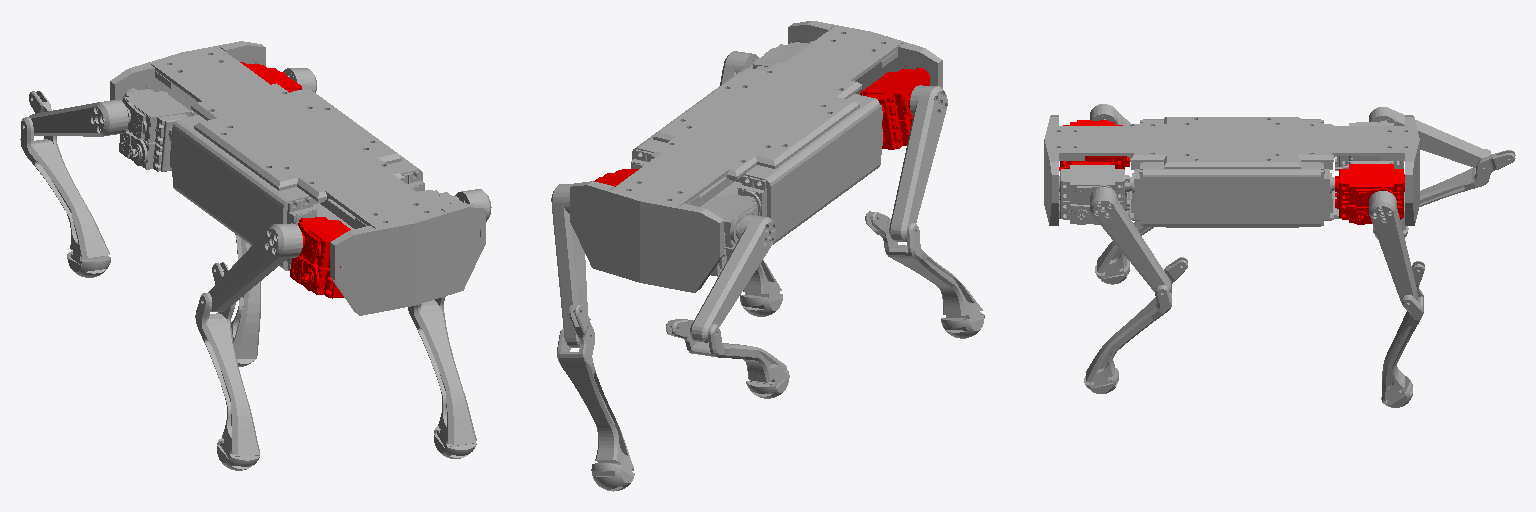
The robot description file, URDF, robot "URDF_1":
<?xml version="1.0" encoding="utf-8"?>
<!-- This URDF was automatically created by SolidWorks to URDF Exporter! Originally created by Stephen Brawner (brawner@gmail.com) 
     Commit Version: 1.6.0-4-g7f85cfe  Build Version: 1.6.7995.38578
     For more information, please see http://wiki.ros.org/sw_urdf_exporter -->
<robot
  name="URDF_1">
  <link
    name="base_link">
    <inertial>
      <origin
        xyz="-8.89733209330501E-09 5.80279366224623E-09 0.000469638111616488"
        rpy="0 0 0" />
      <mass
        value="0.326547450453838" />
      <inertia
        ixx="0.000391289337593216"
        ixy="3.11507093855639E-12"
        ixz="3.2458604082514E-14"
        iyy="0.000178962951565766"
        iyz="-2.56961793499477E-11"
        izz="0.000422717057682732" />
    </inertial>
    <visual>
      <origin
        xyz="0 0 0"
        rpy="0 0 0" />
      <geometry>
        <mesh
          filename="package://URDF_1/meshes/base_link.STL" />
      </geometry>
      <material
        name="">
        <color
          rgba="0.698039215686274 0.698039215686274 0.698039215686274 1" />
      </material>
    </visual>
    <collision>
      <origin
        xyz="0 0 0"
        rpy="0 0 0" />
      <geometry>
        <mesh
          filename="package://URDF_1/meshes/base_link.STL" />
      </geometry>
    </collision>
  </link>
  <link
    name="hip_RF">
    <inertial>
      <origin
        xyz="0.0101758409718946 -0.00295324280623038 0.0298079534648806"
        rpy="0 0 0" />
      <mass
        value="0.0691270950351537" />
      <inertia
        ixx="1.60045029240141E-05"
        ixy="-8.41630917562136E-07"
        ixz="4.17715702410563E-08"
        iyy="1.16544762200248E-05"
        iyz="-7.79296720298759E-09"
        izz="1.03221381222432E-05" />
    </inertial>
    <visual>
      <origin
        xyz="0 0 0"
        rpy="0 0 0" />
      <geometry>
        <mesh
          filename="package://URDF_1/meshes/hip_RF.STL" />
      </geometry>
      <material
        name="">
        <color
          rgba="1 0 0 1" />
      </material>
    </visual>
    <collision>
      <origin
        xyz="0 0 0"
        rpy="0 0 0" />
      <geometry>
        <mesh
          filename="package://URDF_1/meshes/hip_RF.STL" />
      </geometry>
    </collision>
  </link>
  <joint
    name="Joint1_RF"
    type="revolute">
    <origin
      xyz="-0.0449999975183673 -0.0954992296169646 0.00938098015422839"
      rpy="1.5707963267949 1.5707963267949 0" />
    <parent
      link="base_link" />
    <child
      link="hip_RF" />
    <axis
      xyz="0 0 -1" />
    <limit
      lower="-1.57"
      upper="1.57"
      effort="1.5"
      velocity="6" />
  </joint>
  <link
    name="Thigh_RF">
    <inertial>
      <origin
        xyz="0.0293301594342765 -0.0272442713335294 0.0104420530076204"
        rpy="0 0 0" />
      <mass
        value="0.0136519261065869" />
      <inertia
        ixx="7.07459649682712E-06"
        ixy="6.84196217020393E-06"
        ixz="-1.62800429715419E-07"
        iyy="8.06583954976181E-06"
        iyz="1.51433948647116E-07"
        izz="1.46391765368904E-05" />
    </inertial>
    <visual>
      <origin
        xyz="0 0 0"
        rpy="0 0 0" />
      <geometry>
        <mesh
          filename="package://URDF_1/meshes/Thigh_RF.STL" />
      </geometry>
      <material
        name="">
        <color
          rgba="0.698039215686274 0.698039215686274 0.698039215686274 1" />
      </material>
    </visual>
    <collision>
      <origin
        xyz="0 0 0"
        rpy="0 0 0" />
      <geometry>
        <mesh
          filename="package://URDF_1/meshes/Thigh_RF.STL" />
      </geometry>
    </collision>
  </link>
  <joint
    name="Joint2_RF"
    type="revolute">
    <origin
      xyz="-0.00450651591222284 -0.025092092493153 0.0198618938454757"
      rpy="1.5707963268116 0 -0.184218403881293" />
    <parent
      link="hip_RF" />
    <child
      link="Thigh_RF" />
    <axis
      xyz="0 0 -1" />
    <limit
      lower="-1.57"
      upper="1.57"
      effort="1.5"
      velocity="6" />
  </joint>
  <link
    name="Calf_RF">
    <inertial>
      <origin
        xyz="0.047130767944832 0.0312562104039913 0.00939524605364289"
        rpy="0 0 0" />
      <mass
        value="0.00886601726386029" />
      <inertia
        ixx="6.71306610984721E-06"
        ixy="-7.37313616292729E-06"
        ixz="-3.49041423020364E-07"
        iyy="9.42736783203624E-06"
        iyz="-2.62130389157074E-07"
        izz="1.54522802785908E-05" />
    </inertial>
    <visual>
      <origin
        xyz="0 0 0"
        rpy="0 0 0" />
      <geometry>
        <mesh
          filename="package://URDF_1/meshes/Calf_RF.STL" />
      </geometry>
      <material
        name="">
        <color
          rgba="0.698039215686274 0.698039215686274 0.698039215686274 1" />
      </material>
    </visual>
    <collision>
      <origin
        xyz="0 0 0"
        rpy="0 0 0" />
      <geometry>
        <mesh
          filename="package://URDF_1/meshes/Calf_RF.STL" />
      </geometry>
    </collision>
  </link>
  <joint
    name="Joint3_RF"
    type="revolute">
    <origin
      xyz="0.0732205350882606 -0.0680702904138538 0.00129999939815947"
      rpy="0 0 0" />
    <parent
      link="Thigh_RF" />
    <child
      link="Calf_RF" />
    <axis
      xyz="0 0 -1" />
    <limit
      lower="-1.57"
      upper="1.57"
      effort="1.5"
      velocity="6" />
  </joint>
  <link
    name="Foot_RF">
    <inertial>
      <origin
        xyz="-0.00583271386296175 -2.40392014627666E-09 0.000153322641961037"
        rpy="0 0 0" />
      <mass
        value="0.00230350113995821" />
      <inertia
        ixx="2.28786125178542E-07"
        ixy="8.23607527728537E-16"
        ixz="3.24629427146376E-11"
        iyy="1.2469664007038E-07"
        iyz="-8.68168615618258E-15"
        izz="1.62073483876861E-07" />
    </inertial>
    <visual>
      <origin
        xyz="0 0 0"
        rpy="0 0 0" />
      <geometry>
        <mesh
          filename="package://URDF_1/meshes/Foot_RF.STL" />
      </geometry>
      <material
        name="">
        <color
          rgba="0.698039215686274 0.698039215686274 0.698039215686274 1" />
      </material>
    </visual>
    <collision>
      <origin
        xyz="0 0 0"
        rpy="0 0 0" />
      <geometry>
        <mesh
          filename="package://URDF_1/meshes/Foot_RF.STL" />
      </geometry>
    </collision>
  </link>
  <joint
    name="Joint4_RF"
    type="fixed">
    <origin
      xyz="0.103568272218062 0.0578115123715837 0.00992243475665355"
      rpy="0 0 -0.193181008175667" />
    <parent
      link="Calf_RF" />
    <child
      link="Foot_RF" />
    <axis
      xyz="0 0 0" />
  </joint>
  <link
    name="Hip_LB">
    <inertial>
      <origin
        xyz="0.0105443186238565 -0.00105472348652783 0.0298079519245261"
        rpy="0 0 0" />
      <mass
        value="0.0691271600080189" />
      <inertia
        ixx="1.61616624786488E-05"
        ixy="-1.80350617679244E-09"
        ixz="4.24921726067964E-08"
        iyy="1.14973269950902E-05"
        iyz="-9.47563062784748E-12"
        izz="1.03221485699731E-05" />
    </inertial>
    <visual>
      <origin
        xyz="0 0 0"
        rpy="0 0 0" />
      <geometry>
        <mesh
          filename="package://URDF_1/meshes/Hip_LB.STL" />
      </geometry>
      <material
        name="">
        <color
          rgba="1 0 0 1" />
      </material>
    </visual>
    <collision>
      <origin
        xyz="0 0 0"
        rpy="0 0 0" />
      <geometry>
        <mesh
          filename="package://URDF_1/meshes/Hip_LB.STL" />
      </geometry>
    </collision>
  </link>
  <joint
    name="Joint1_LB"
    type="revolute">
    <origin
      xyz="0.0449999975824225 0.0954992295412814 0.00938097942002192"
      rpy="1.57079632495153 1.34679897174749 3.14159265169919" />
    <parent
      link="base_link" />
    <child
      link="Hip_LB" />
    <axis
      xyz="0 0 -1" />
    <limit
      lower="-1.57"
      upper="1.57"
      effort="1.5"
      velocity="6" />
  </joint>
  <link
    name="Thigh_LB">
    <inertial>
      <origin
        xyz="0.0389608196571295 0.00926999545325023 0.0104420543671168"
        rpy="0 0 0" />
      <mass
        value="0.0136519259715228" />
      <inertia
        ixx="1.45113756843158E-06"
        ixy="-3.10079693063737E-06"
        ixz="-2.1625638659868E-07"
        iyy="1.36892984020968E-05"
        iyz="-5.1665709849204E-08"
        izz="1.46391764988465E-05" />
    </inertial>
    <visual>
      <origin
        xyz="0 0 0"
        rpy="0 0 0" />
      <geometry>
        <mesh
          filename="package://URDF_1/meshes/Thigh_LB.STL" />
      </geometry>
      <material
        name="">
        <color
          rgba="0.698039215686274 0.698039215686274 0.698039215686274 1" />
      </material>
    </visual>
    <collision>
      <origin
        xyz="0 0 0"
        rpy="0 0 0" />
      <geometry>
        <mesh
          filename="package://URDF_1/meshes/Thigh_LB.STL" />
      </geometry>
    </collision>
  </link>
  <joint
    name="Joint2_LB"
    type="revolute">
    <origin
      xyz="0.000165754722025624 -0.0255084660262564 0.039938106153917"
      rpy="1.5707963267949 0 0" />
    <parent
      link="Hip_LB" />
    <child
      link="Thigh_LB" />
    <axis
      xyz="0 0 -1" />
    <limit
      lower="-1.57"
      upper="1.57"
      effort="1.5"
      velocity="6" />
  </joint>
  <link
    name="Calf_LB">
    <inertial>
      <origin
        xyz="0.0562208281794497 -0.00612334120609302 0.00939526919960348"
        rpy="0 0 0" />
      <mass
        value="0.00886598317933579" />
      <inertia
        ixx="1.27005551146409E-06"
        ixy="3.15639128636823E-06"
        ixz="-4.30423969535076E-07"
        iyy="1.48703265621312E-05"
        iyz="7.25767881715299E-08"
        izz="1.54522330502024E-05" />
    </inertial>
    <visual>
      <origin
        xyz="0 0 0"
        rpy="0 0 0" />
      <geometry>
        <mesh
          filename="package://URDF_1/meshes/Calf_LB.STL" />
      </geometry>
      <material
        name="">
        <color
          rgba="0.698039215686274 0.698039215686274 0.698039215686274 1" />
      </material>
    </visual>
    <collision>
      <origin
        xyz="0 0 0"
        rpy="0 0 0" />
      <geometry>
        <mesh
          filename="package://URDF_1/meshes/Calf_LB.STL" />
      </geometry>
    </collision>
  </link>
  <joint
    name="Joint3_LB"
    type="revolute">
    <origin
      xyz="0.0972627533996326 0.0231988662333634 0.00129999934280145"
      rpy="0 0 0" />
    <parent
      link="Thigh_LB" />
    <child
      link="Calf_LB" />
    <axis
      xyz="0 0 -1" />
    <limit
      lower="-1.57"
      upper="1.57"
      effort="1.5"
      velocity="6" />
  </joint>
  <link
    name="Foot_LB">
    <inertial>
      <origin
        xyz="-0.00583271254232623 -1.28429211709857E-11 -0.000153322627192587"
        rpy="0 0 0" />
      <mass
        value="0.0023035011249116" />
      <inertia
        ixx="2.28786123341901E-07"
        ixy="-1.08414761372025E-16"
        ixz="-3.2462602967542E-11"
        iyy="1.24696638198611E-07"
        iyz="-8.6922778333494E-15"
        izz="1.62073483431227E-07" />
    </inertial>
    <visual>
      <origin
        xyz="0 0 0"
        rpy="0 0 0" />
      <geometry>
        <mesh
          filename="package://URDF_1/meshes/Foot_LB.STL" />
      </geometry>
      <material
        name="">
        <color
          rgba="0.698039215686274 0.698039215686274 0.698039215686274 1" />
      </material>
    </visual>
    <collision>
      <origin
        xyz="0 0 0"
        rpy="0 0 0" />
      <geometry>
        <mesh
          filename="package://URDF_1/meshes/Foot_LB.STL" />
      </geometry>
    </collision>
  </link>
  <joint
    name="Joint4_LB"
    type="fixed">
    <origin
      xyz="0.118550160948996 -0.0037969819877507 0.0102631639512074"
      rpy="0 0 0.670278242890864" />
    <parent
      link="Calf_LB" />
    <child
      link="Foot_LB" />
    <axis
      xyz="0 0 0" />
  </joint>
  <link
    name="Hip_RB">
    <inertial>
      <origin
        xyz="0.0105451228708843 0.0010436826354413 0.0298079568283908"
        rpy="0 0 0" />
      <mass
        value="0.0691271608115489" />
      <inertia
        ixx="1.61616624434881E-05"
        ixy="-1.80356223726995E-09"
        ixz="4.24935085891815E-08"
        iyy="1.14973270830918E-05"
        iyz="-9.46797941481032E-12"
        izz="1.03221486312725E-05" />
    </inertial>
    <visual>
      <origin
        xyz="0 0 0"
        rpy="0 0 0" />
      <geometry>
        <mesh
          filename="package://URDF_1/meshes/Hip_RB.STL" />
      </geometry>
      <material
        name="">
        <color
          rgba="0.698039215686274 0.698039215686274 0.698039215686274 1" />
      </material>
    </visual>
    <collision>
      <origin
        xyz="0 0 0"
        rpy="0 0 0" />
      <geometry>
        <mesh
          filename="package://URDF_1/meshes/Hip_RB.STL" />
      </geometry>
    </collision>
  </link>
  <joint
    name="Joint1_RB"
    type="revolute">
    <origin
      xyz="-0.045 0.095499 0.009381"
      rpy="1.5708 1.4798 3.1416" />
    <parent
      link="base_link" />
    <child
      link="Hip_RB" />
    <axis
      xyz="0 0 -1" />
    <limit
      lower="-1.57"
      upper="1.57"
      effort="1.5"
      velocity="6" />
  </joint>
  <link
    name="Thigh_RB">
    <inertial>
      <origin
        xyz="0.0163778274794067 -0.0365180570755745 0.0104420535740748"
        rpy="0 0 0" />
      <mass
        value="0.0136519260678425" />
      <inertia
        ixx="1.21366190482728E-05"
        ixy="5.11918632691079E-06"
        ixz="-9.09070487356917E-08"
        iyy="3.00381699398105E-06"
        iyz="2.02909157620302E-07"
        izz="1.46391765305746E-05" />
    </inertial>
    <visual>
      <origin
        xyz="0 0 0"
        rpy="0 0 0" />
      <geometry>
        <mesh
          filename="package://URDF_1/meshes/Thigh_RB.STL" />
      </geometry>
      <material
        name="">
        <color
          rgba="0.698039215686274 0.698039215686274 0.698039215686274 1" />
      </material>
    </visual>
    <collision>
      <origin
        xyz="0 0 0"
        rpy="0 0 0" />
      <geometry>
        <mesh
          filename="package://URDF_1/meshes/Thigh_RB.STL" />
      </geometry>
    </collision>
  </link>
  <joint
    name="Joint2_RB"
    type="revolute">
    <origin
      xyz="0.000166547789723137 0.025496533420395 0.0399381057061415"
      rpy="-1.5707963267949 0 0" />
    <parent
      link="Hip_RB" />
    <child
      link="Thigh_RB" />
    <axis
      xyz="0 0 -1" />
    <limit
      lower="-1.57"
      upper="1.57"
      effort="1.5"
      velocity="6" />
  </joint>
  <link
    name="Calf_RB">
    <inertial>
      <origin
        xyz="0.035959 0.043649 0.0093953"
        rpy="0 0 0" />
      <mass
        value="0.008866" />
      <inertia
        ixx="1.106E-05"
        ixy="-6.8751E-06"
        ixz="-2.5736E-07"
        iyy="5.0805E-06"
        iyz="-3.5257E-07"
        izz="1.5452E-05" />
    </inertial>
    <visual>
      <origin
        xyz="0 0 0"
        rpy="0 0 0" />
      <geometry>
        <mesh
          filename="package://URDF_1/meshes/Calf_RB.STL" />
      </geometry>
      <material
        name="">
        <color
          rgba="0.69804 0.69804 0.69804 1" />
      </material>
    </visual>
    <collision>
      <origin
        xyz="0 0 0"
        rpy="0 0 0" />
      <geometry>
        <mesh
          filename="package://URDF_1/meshes/Calf_RB.STL" />
      </geometry>
    </collision>
  </link>
  <joint
    name="Joint3_RB"
    type="revolute">
    <origin
      xyz="0.0408860054507293 -0.0912215931263758 0.00130000120269708"
      rpy="0 0 0" />
    <parent
      link="Thigh_RB" />
    <child
      link="Calf_RB" />
    <axis
      xyz="0 0 -1" />
    <limit
      lower="-1.57"
      upper="1.57"
      effort="1.5"
      velocity="6" />
  </joint>
  <link
    name="Foot_RB">
    <inertial>
      <origin
        xyz="-0.0058327 2.7064E-10 0.00015332"
        rpy="0 0 0" />
      <mass
        value="0.0023035" />
      <inertia
        ixx="2.2879E-07"
        ixy="-1.3103E-17"
        ixz="3.2463E-11"
        iyy="1.247E-07"
        iyz="-8.6788E-15"
        izz="1.6207E-07" />
    </inertial>
    <visual>
      <origin
        xyz="0 0 0"
        rpy="0 0 0" />
      <geometry>
        <mesh
          filename="package://URDF_1/meshes/Foot_RB.STL" />
      </geometry>
      <material
        name="">
        <color
          rgba="0.69804 0.69804 0.69804 1" />
      </material>
    </visual>
    <collision>
      <origin
        xyz="0 0 0"
        rpy="0 0 0" />
      <geometry>
        <mesh
          filename="package://URDF_1/meshes/Foot_RB.STL" />
      </geometry>
    </collision>
  </link>
  <joint
    name="Joint4_RB"
    type="fixed">
    <origin
      xyz="0.0821911036658188 0.0855171354239601 0.00992243475665383"
      rpy="0 0 0.102932003324284" />
    <parent
      link="Calf_RB" />
    <child
      link="Foot_RB" />
    <axis
      xyz="0 0 0" />
  </joint>
  <link
    name="Hip_LF">
    <inertial>
      <origin
        xyz="0.010545 0.001051 0.029808"
        rpy="0 0 0" />
      <mass
        value="0.069127" />
      <inertia
        ixx="1.6162E-05"
        ixy="-1.8027E-09"
        ixz="4.2494E-08"
        iyy="1.1497E-05"
        iyz="-9.4684E-12"
        izz="1.0322E-05" />
    </inertial>
    <visual>
      <origin
        xyz="0 0 0"
        rpy="0 0 0" />
      <geometry>
        <mesh
          filename="package://URDF_1/meshes/Hip_LF.STL" />
      </geometry>
      <material
        name="">
        <color
          rgba="0.69804 0.69804 0.69804 1" />
      </material>
    </visual>
    <collision>
      <origin
        xyz="0 0 0"
        rpy="0 0 0" />
      <geometry>
        <mesh
          filename="package://URDF_1/meshes/Hip_LF.STL" />
      </geometry>
    </collision>
  </link>
  <joint
    name="Joint1_LF"
    type="revolute">
    <origin
      xyz="0.045 -0.095499 0.009381"
      rpy="-1.5708 1.4693 3.1416" />
    <parent
      link="base_link" />
    <child
      link="Hip_LF" />
    <axis
      xyz="0 0 -1" />
    <limit
      lower="-1.57"
      upper="1.57"
      effort="1.5"
      velocity="6" />
  </joint>
  <link
    name="Thigh_LF">
    <inertial>
      <origin
        xyz="0.034019164111318 0.0211109458136879 0.0104420481040475"
        rpy="0 0 0" />
      <mass
        value="0.0136519261108968" />
      <inertia
        ixx="4.53475222085093E-06"
        ixy="-6.15175050348603E-06"
        ixz="-1.88827169706107E-07"
        iyy="1.06056837820887E-05"
        iyz="-1.173902192775E-07"
        izz="1.46391765421942E-05" />
    </inertial>
    <visual>
      <origin
        xyz="0 0 0"
        rpy="0 0 0" />
      <geometry>
        <mesh
          filename="package://URDF_1/meshes/Thigh_LF.STL" />
      </geometry>
      <material
        name="">
        <color
          rgba="0.698039215686274 0.698039215686274 0.698039215686274 1" />
      </material>
    </visual>
    <collision>
      <origin
        xyz="0 0 0"
        rpy="0 0 0" />
      <geometry>
        <mesh
          filename="package://URDF_1/meshes/Thigh_LF.STL" />
      </geometry>
    </collision>
  </link>
  <joint
    name="Joint2_LF"
    type="revolute">
    <origin
      xyz="0.000166513432114379 0.0255038634633682 0.0198618913914449"
      rpy="-1.57079632679489 0 0" />
    <parent
      link="Hip_LF" />
    <child
      link="Thigh_LF" />
    <axis
      xyz="0 0 -1" />
    <limit
      lower="-1.57"
      upper="1.57"
      effort="1.5"
      velocity="6" />
  </joint>
  <link
    name="Calf_LF">
    <inertial>
      <origin
        xyz="0.0488571539883216 -0.0284825016710645 0.00939526618602071"
        rpy="0 0 0" />
      <mass
        value="0.00886599012842122" />
      <inertia
        ixx="5.87197186973352E-06"
        ixy="7.16745917722171E-06"
        ixz="-3.63587291398333E-07"
        iyy="1.02684116570573E-05"
        iyz="2.41531296582187E-07"
        izz="1.54522338004696E-05" />
    </inertial>
    <visual>
      <origin
        xyz="0 0 0"
        rpy="0 0 0" />
      <geometry>
        <mesh
          filename="package://URDF_1/meshes/Calf_LF.STL" />
      </geometry>
      <material
        name="">
        <color
          rgba="0.698039215686274 0.698039215686274 0.698039215686274 1" />
      </material>
    </visual>
    <collision>
      <origin
        xyz="0 0 0"
        rpy="0 0 0" />
      <geometry>
        <mesh
          filename="package://URDF_1/meshes/Calf_LF.STL" />
      </geometry>
    </collision>
  </link>
  <joint
    name="Joint3_LF"
    type="revolute">
    <origin
      xyz="0.0849262922412908 0.0527589116011191 0.00129999273078008"
      rpy="0 0 0" />
    <parent
      link="Thigh_LF" />
    <child
      link="Calf_LF" />
    <axis
      xyz="0 0 -1" />
    <limit
      lower="-1.57"
      upper="1.57"
      effort="1.5"
      velocity="6" />
  </joint>
  <link
    name="Foot_LF">
    <inertial>
      <origin
        xyz="-0.00583271257873152 6.26870777509225E-12 0.000153322576572135"
        rpy="0 0 0" />
      <mass
        value="0.00230350113544803" />
      <inertia
        ixx="2.28786124611548E-07"
        ixy="-1.67799052025098E-16"
        ixz="3.2462475371422E-11"
        iyy="1.24696639474126E-07"
        iyz="-8.67626272333531E-15"
        izz="1.620734837238E-07" />
    </inertial>
    <visual>
      <origin
        xyz="0 0 0"
        rpy="0 0 0" />
      <geometry>
        <mesh
          filename="package://URDF_1/meshes/Foot_LF.STL" />
      </geometry>
      <material
        name="">
        <color
          rgba="0.698039215686274 0.698039215686274 0.698039215686274 1" />
      </material>
    </visual>
    <collision>
      <origin
        xyz="0 0 0"
        rpy="0 0 0" />
      <geometry>
        <mesh
          filename="package://URDF_1/meshes/Foot_LF.STL" />
      </geometry>
    </collision>
  </link>
  <joint
    name="Joint4_LF"
    type="fixed">
    <origin
      xyz="0.106733851654356 -0.0517343491691078 0.00992243475665783"
      rpy="0 0 0.250959525591169" />
    <parent
      link="Calf_LF" />
    <child
      link="Foot_LF" />
    <axis
      xyz="0 0 0" />
  </joint>
</robot>

--- Render facts (derived) ---
The picture shows the robot from 3 angles, left to right: view 1: azimuth 30°, elevation 25°; view 2: azimuth 150°, elevation 25°; view 3: azimuth 270°, elevation 25°; orthographic projection.
Robot: URDF_1 — 17 links, 16 joints (12 revolute, 4 fixed); root link base_link; default pose: all joints at 0.
Links seen in each view (by area): view 1: base_link, Calf_RF, Calf_RB, Calf_LF, Hip_RB, Thigh_RF, hip_RF, Thigh_RB, Calf_LB, Hip_LB, Foot_RB, Foot_RF; view 2: base_link, Thigh_RF, Calf_LB, Thigh_RB, Calf_RF, Thigh_LB, hip_RF, Calf_RB, Hip_RB, Calf_LF, Foot_LB, Hip_LF (+3 smaller); view 3: base_link, Hip_LB, Thigh_LF, Hip_LF, Thigh_LB, Calf_LF, Calf_LB, Thigh_RB, Calf_RB, Calf_RF, hip_RF, Hip_RB.
Boxes of the visible links, x1,y1,x2,y2 form: base_link: (110,41,485,315); Calf_RF: (195,262,259,459); Calf_RB: (20,91,109,265); Calf_LF: (408,296,476,449); Hip_RB: (119,88,192,171); Thigh_RF: (208,223,302,311); hip_RF: (290,217,350,298); Thigh_RB: (29,99,128,136); Calf_LB: (231,234,260,358); Hip_LB: (240,62,301,92); Foot_RB: (67,251,110,277); Foot_RF: (217,438,259,470); base_link: (570,21,942,292); Thigh_RF: (889,85,947,241); Calf_LB: (557,305,634,476); Thigh_RB: (690,215,775,342); Calf_RF: (865,211,984,322); Thigh_LB: (551,184,587,347); hip_RF: (860,68,929,149); Calf_RB: (666,319,789,385); Hip_RB: (702,194,757,276); Calf_LF: (743,260,782,301); Foot_LB: (591,463,633,491); Hip_LF: (752,41,813,71); base_link: (1044,115,1419,227); Hip_LB: (1335,164,1404,224); Thigh_LF: (1090,187,1170,293); Hip_LF: (1059,165,1129,224); Thigh_LB: (1369,191,1417,302); Calf_LF: (1086,257,1187,388); Calf_LB: (1382,261,1424,405); Thigh_RB: (1369,107,1491,167); Calf_RB: (1400,149,1515,230); Calf_RF: (1097,221,1153,278); hip_RF: (1059,120,1129,170); Hip_RB: (1335,121,1403,170).
Size in the robot's own frame: 0.2159 by 0.4234 by 0.2484 metres.
Meshes: 17 distinct files referenced, 17 mesh visuals loaded (17 binary STL).
